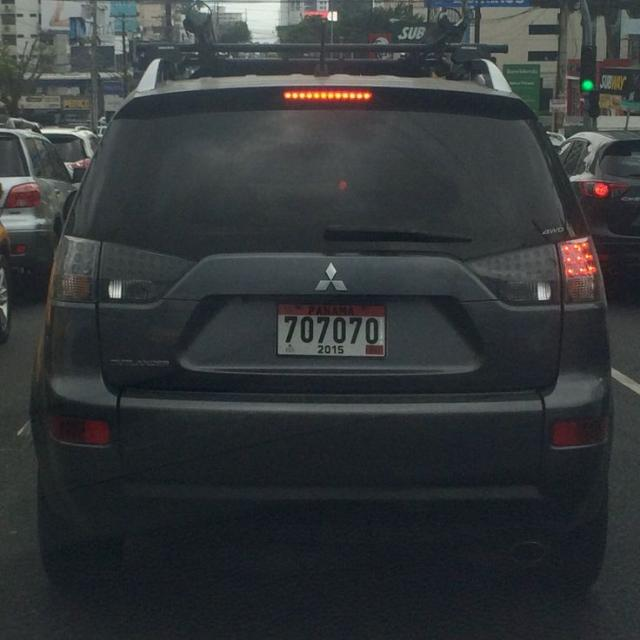Placas: (270, 293, 390, 364)
